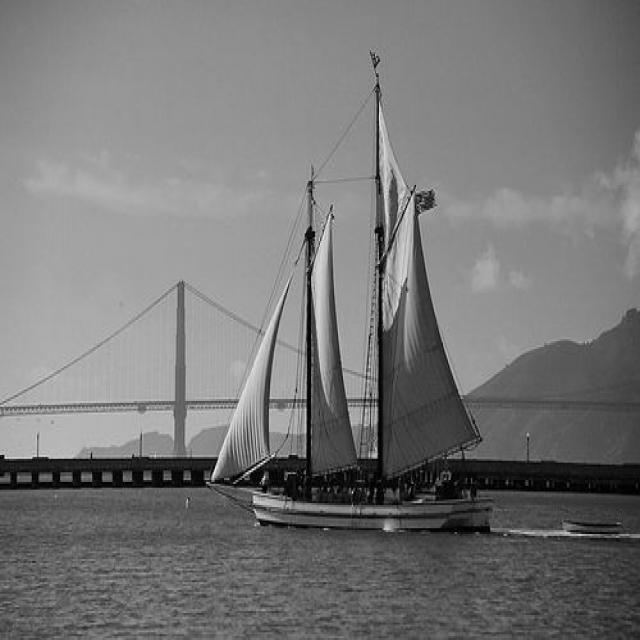Ship: (210, 66, 511, 534)
